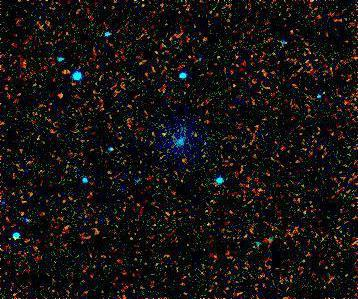star: (47, 56, 77, 86)
